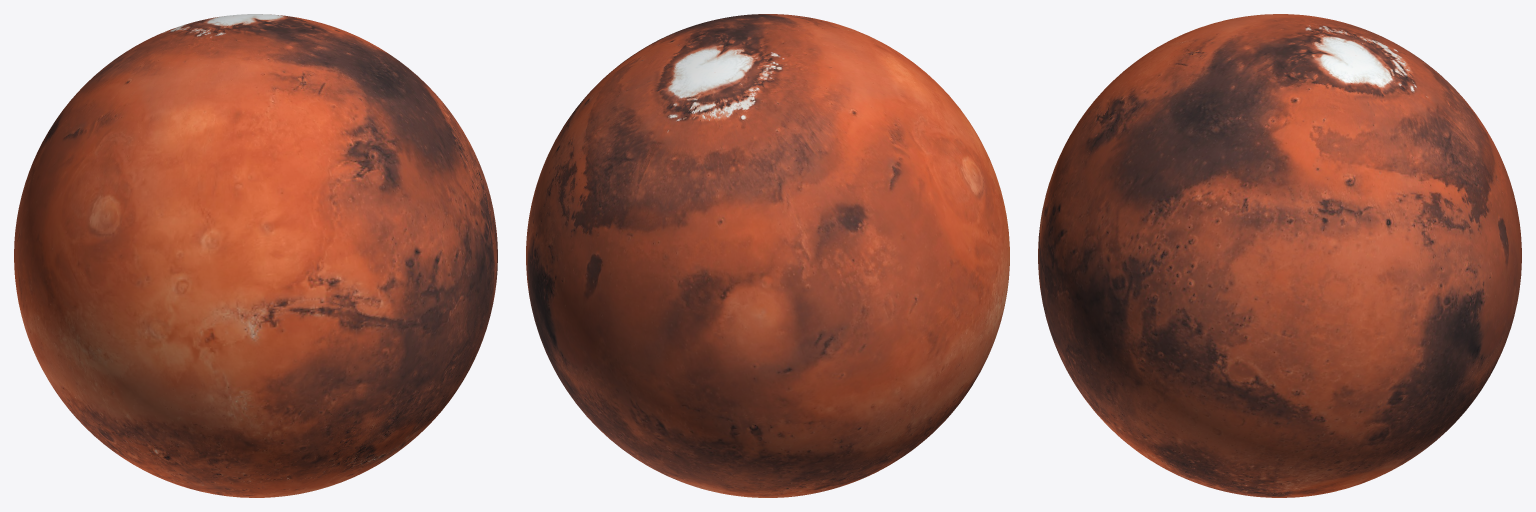
File: mars.glb
3 renders of one model, left to right at view 1: azimuth 30°, elevation 25°; view 2: azimuth 150°, elevation 25°; view 3: azimuth 270°, elevation 25°, orthographic.
Visible parts, largest first — view 1: Sphere; view 2: Sphere; view 3: Sphere.
Boxes of the visible parts, <box> form: Sphere: <box>14,14,497,497</box>; Sphere: <box>526,14,1009,497</box>; Sphere: <box>1038,14,1521,497</box>.
Bounding box in the file's own units: 2 × 2 × 2.
1 material, 1 textured.
